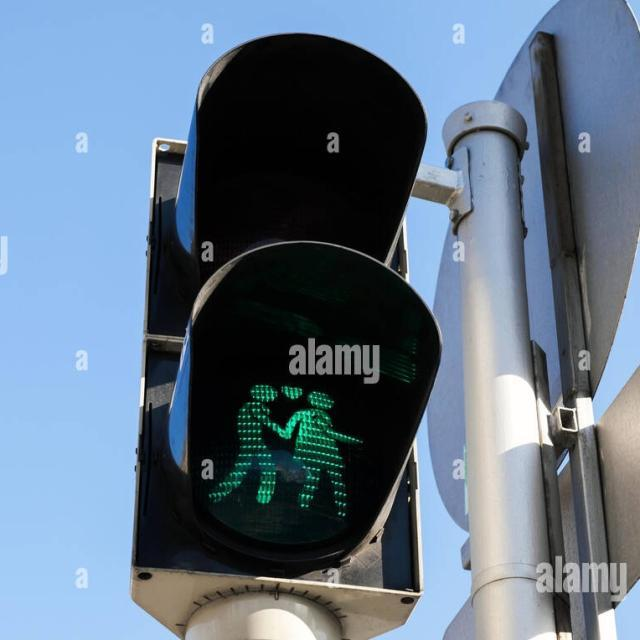green_light: (205, 363, 364, 532)
